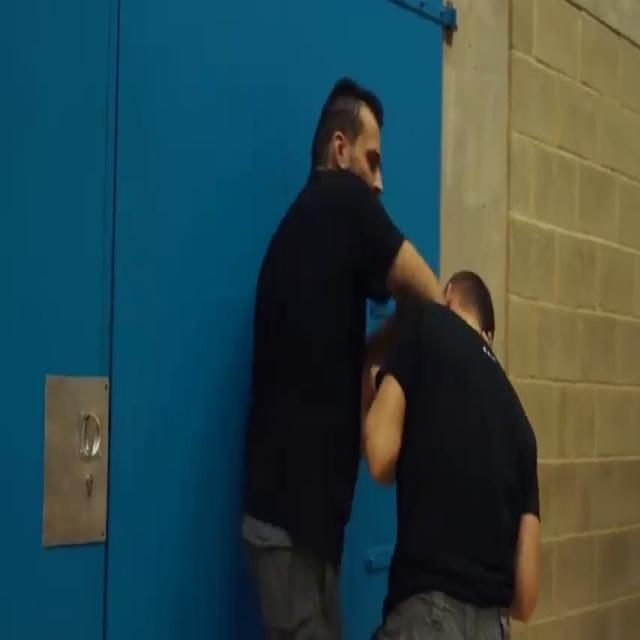fight: (209, 60, 586, 639)
